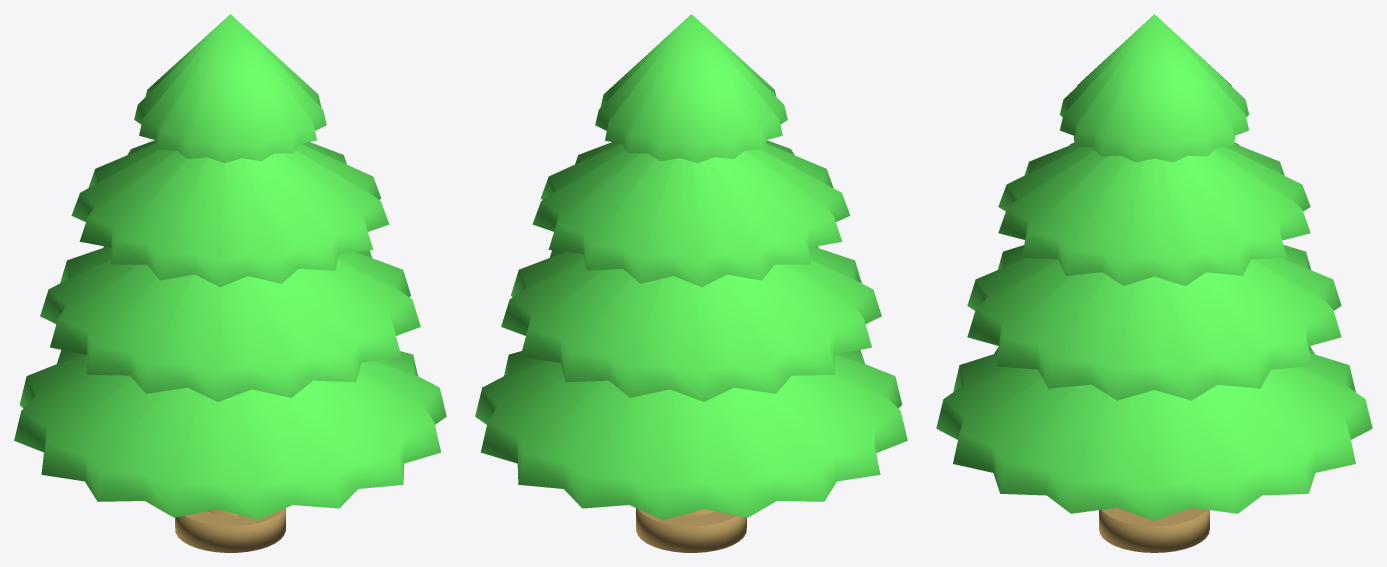
File: christmastree.fbx
3 views of the same model, side by side, from view 1: azimuth 30°, elevation 25°; view 2: azimuth 150°, elevation 25°; view 3: azimuth 270°, elevation 25° (orthographic).
Parts seen in each view (by area): view 1: ChristmasTree; view 2: ChristmasTree; view 3: ChristmasTree.
Part boxes in pixels (x1,y1,x2,y2): ChristmasTree: [14, 14, 446, 552]; ChristmasTree: [475, 14, 907, 552]; ChristmasTree: [936, 14, 1372, 552].
Bounding box in the file's own units: 1.45 × 1.89 × 1.45.
Materials: 1 (1 with a texture image).
